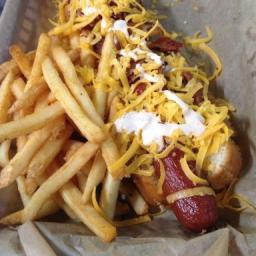hotdog: (150, 148, 220, 228)
